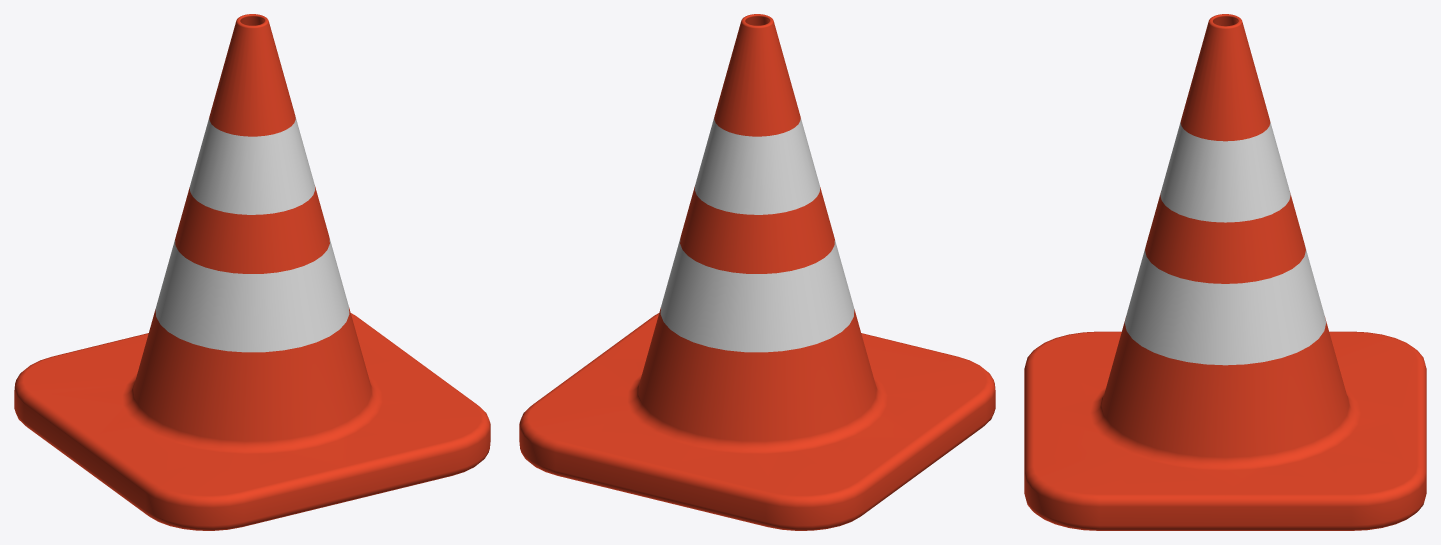
3 renders of one model, left to right at view 1: azimuth 30°, elevation 25°; view 2: azimuth 150°, elevation 25°; view 3: azimuth 270°, elevation 25°, orthographic. The views are drawn at different scales.
Parts seen in each view (by area): view 1: Cube; view 2: Cube; view 3: Cube.
Boxes of the visible parts, <box> form: Cube: <box>14,14,490,530</box>; Cube: <box>519,14,995,530</box>; Cube: <box>1024,14,1426,530</box>.
Bounding box in the file's own units: 29.78 × 35.04 × 29.78.
